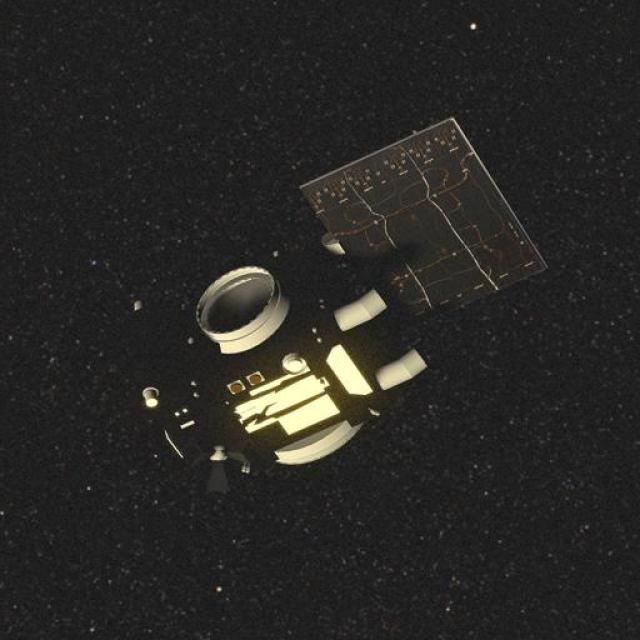proba_3_csc: (105, 140, 520, 546)
